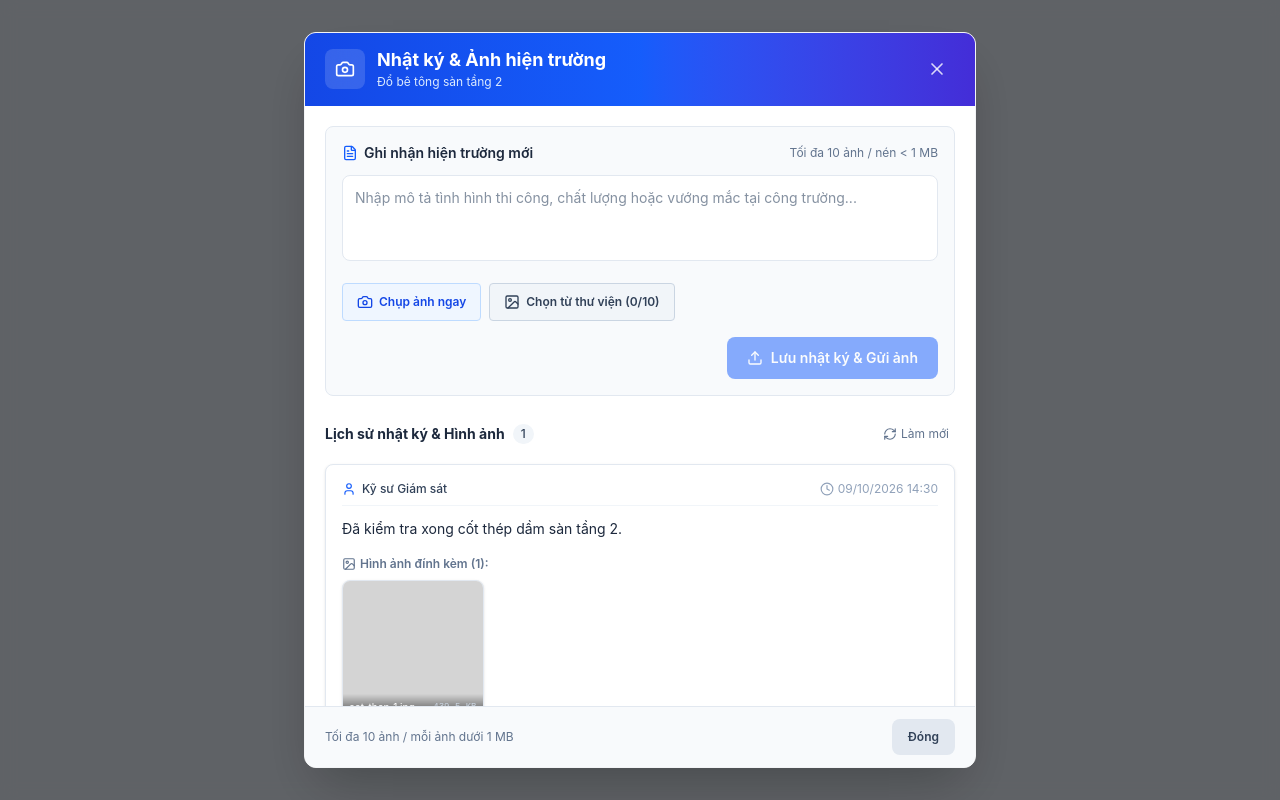
Test case: TaskLogModal (S-23 / T-53) › T54 – Thumbnail & Xem ảnh gốc theo yêu cầu › AC1 & AC2: Mở danh sách không tải ảnh gốc; chỉ khi bấm thumbnail mới mở viewer và tải ảnh gốc
Note: Bấm vào thumbnail
Step 1. Click the button with test id "thumbnail-item-10" → (413, 651), box [342,580,484,722]
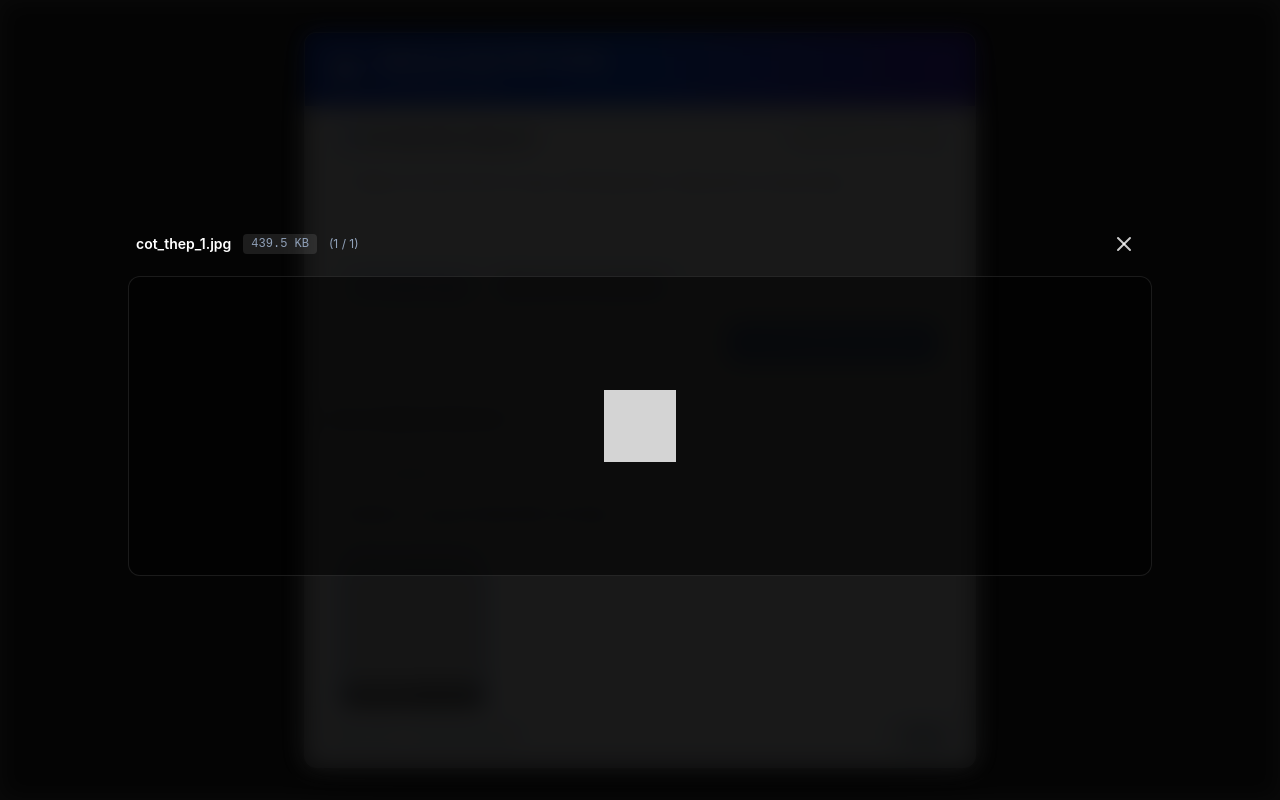
Expected: the dialog with test id "image-viewer-modal" is shown
